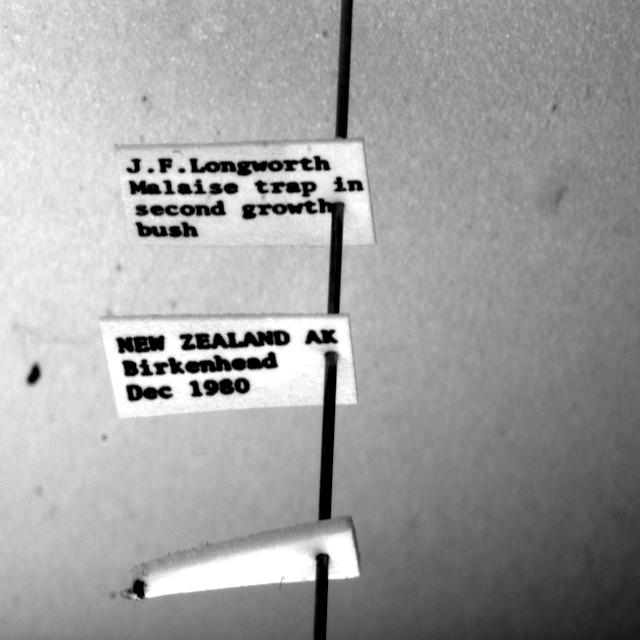typed_label: (116, 139, 375, 246), (100, 315, 358, 418)
